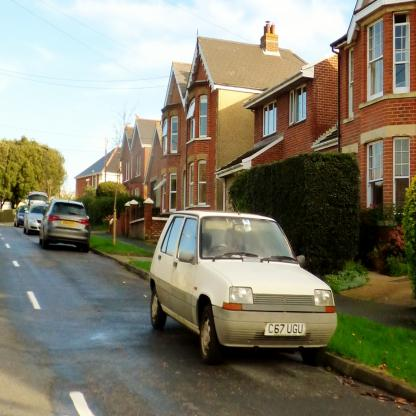Car: (149, 212, 335, 363), (39, 202, 95, 254), (27, 204, 47, 235), (17, 206, 27, 229)
